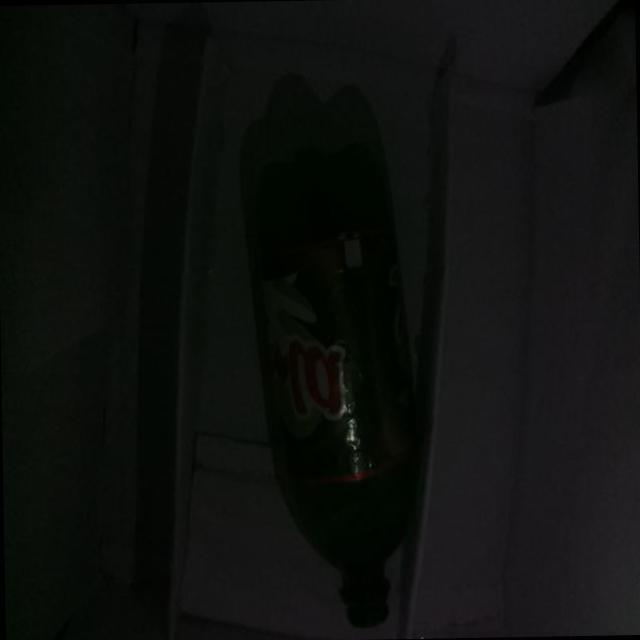good: (237, 74, 440, 632)
